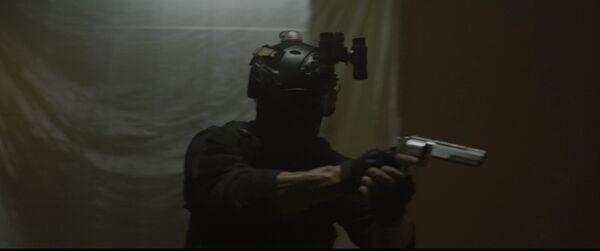Gun: (393, 132, 487, 179)
